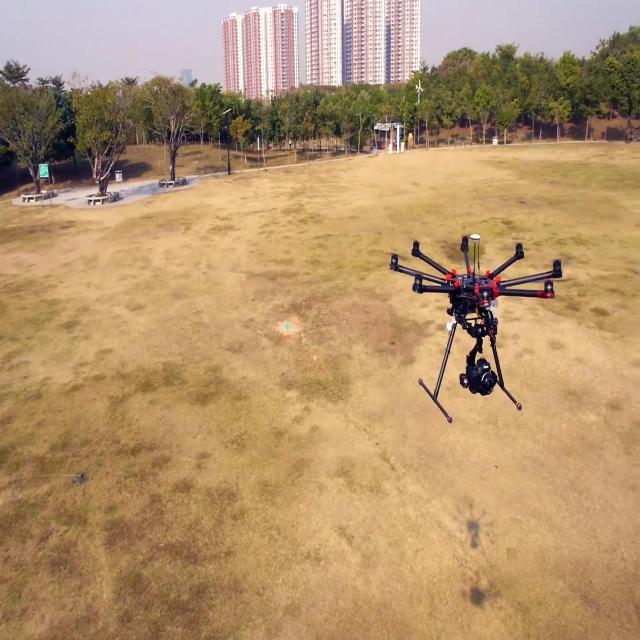drone: (385, 221, 577, 448)
